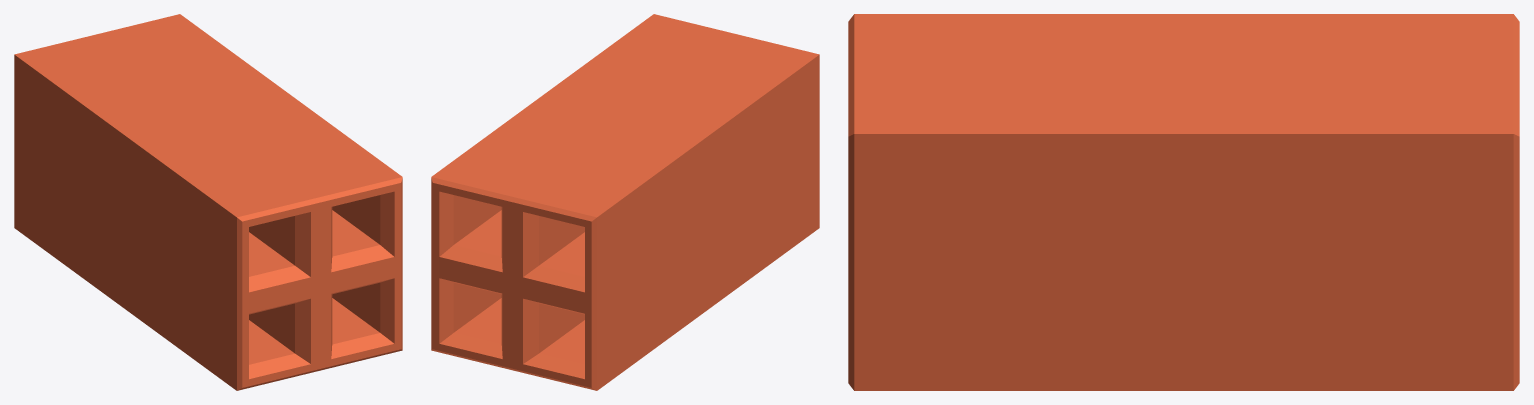
The model's file is gach.fbx.
3 views of the same model, side by side, from view 1: azimuth 30°, elevation 25°; view 2: azimuth 150°, elevation 25°; view 3: azimuth 270°, elevation 25° (orthographic). The views are drawn at different scales.
Parts seen in each view (by area): view 1: vien_gach; view 2: vien_gach; view 3: vien_gach.
Part boxes in pixels (box(x1,y1,x2,y2)): vien_gach: box(14, 14, 402, 390); vien_gach: box(431, 14, 819, 390); vien_gach: box(848, 14, 1519, 390).
Bounding box in the file's own units: 2.44 × 2.44 × 5.78.
1 material, 1 textured.
